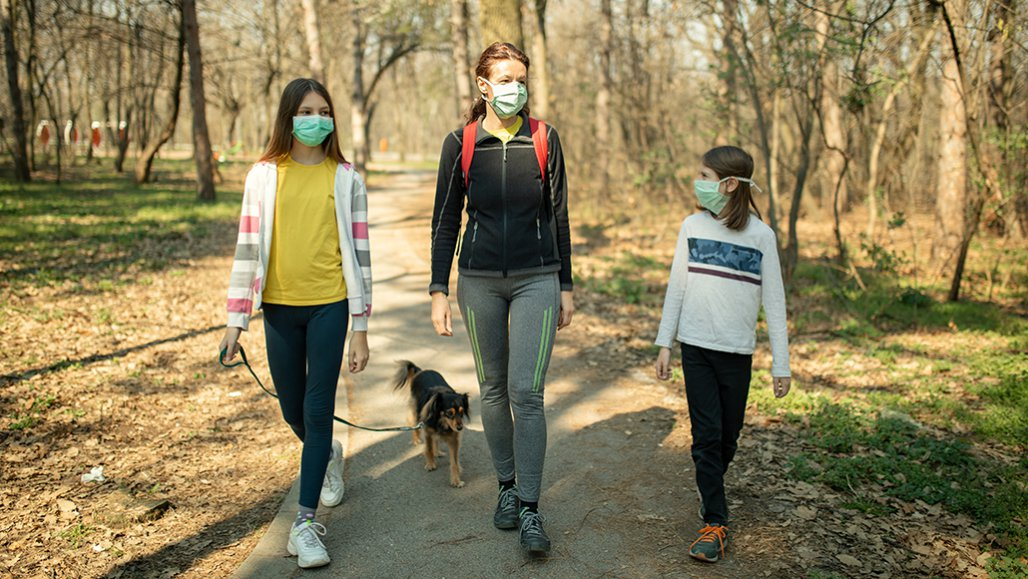mask: (259, 71, 366, 167), (458, 34, 547, 130), (680, 141, 765, 221)
